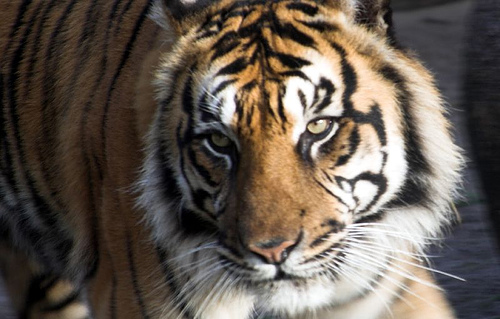Tigre: (134, 13, 449, 283)
